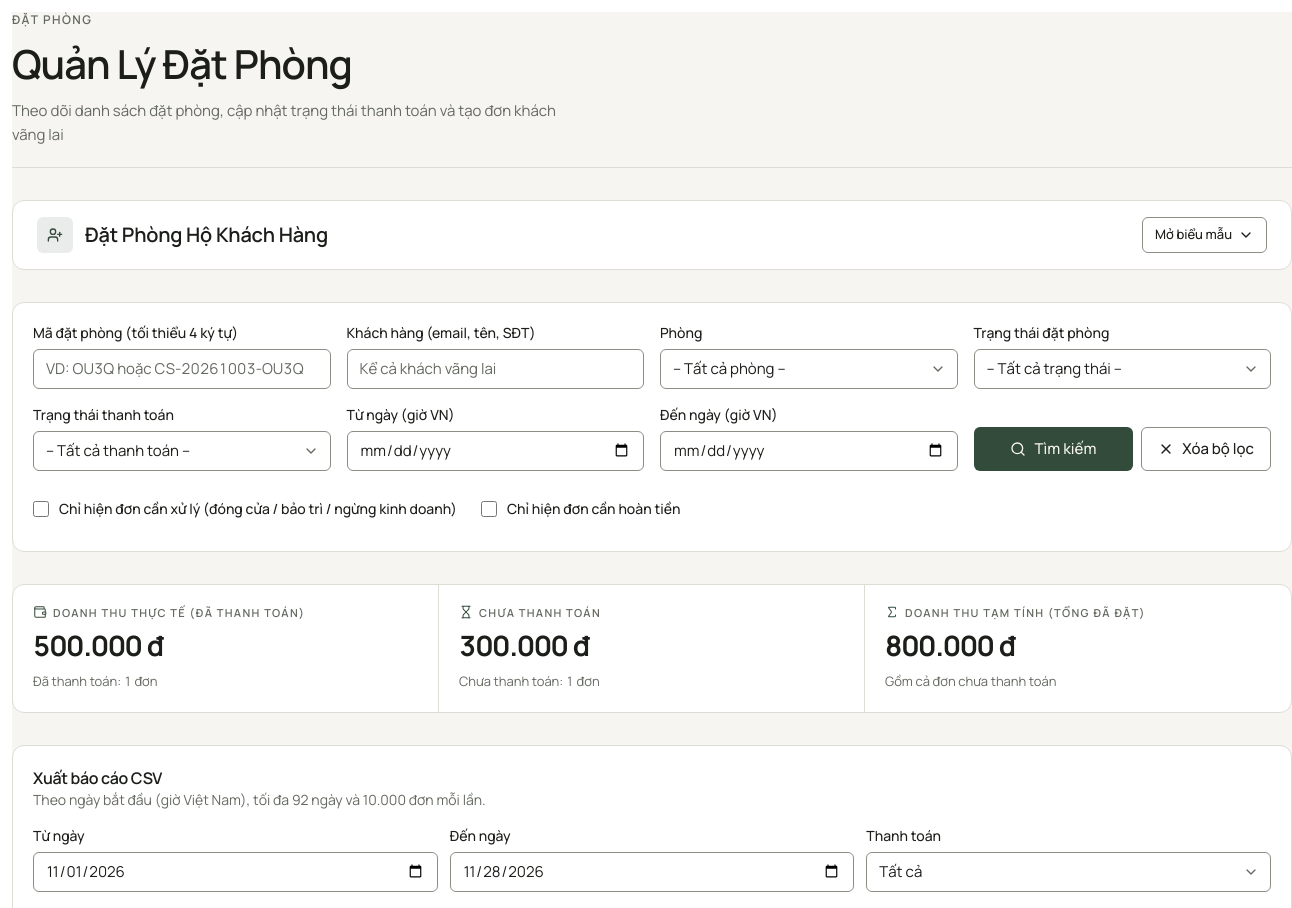
Scenario: AdminBookingsPage - Booking Management & Search › submits a trimmed customer filter that also covers walk-in guests (CWB-79)
Type "  an@example.com " into the search field with test id "filter-customer-input" at (495, 369), box [346,349,644,389]
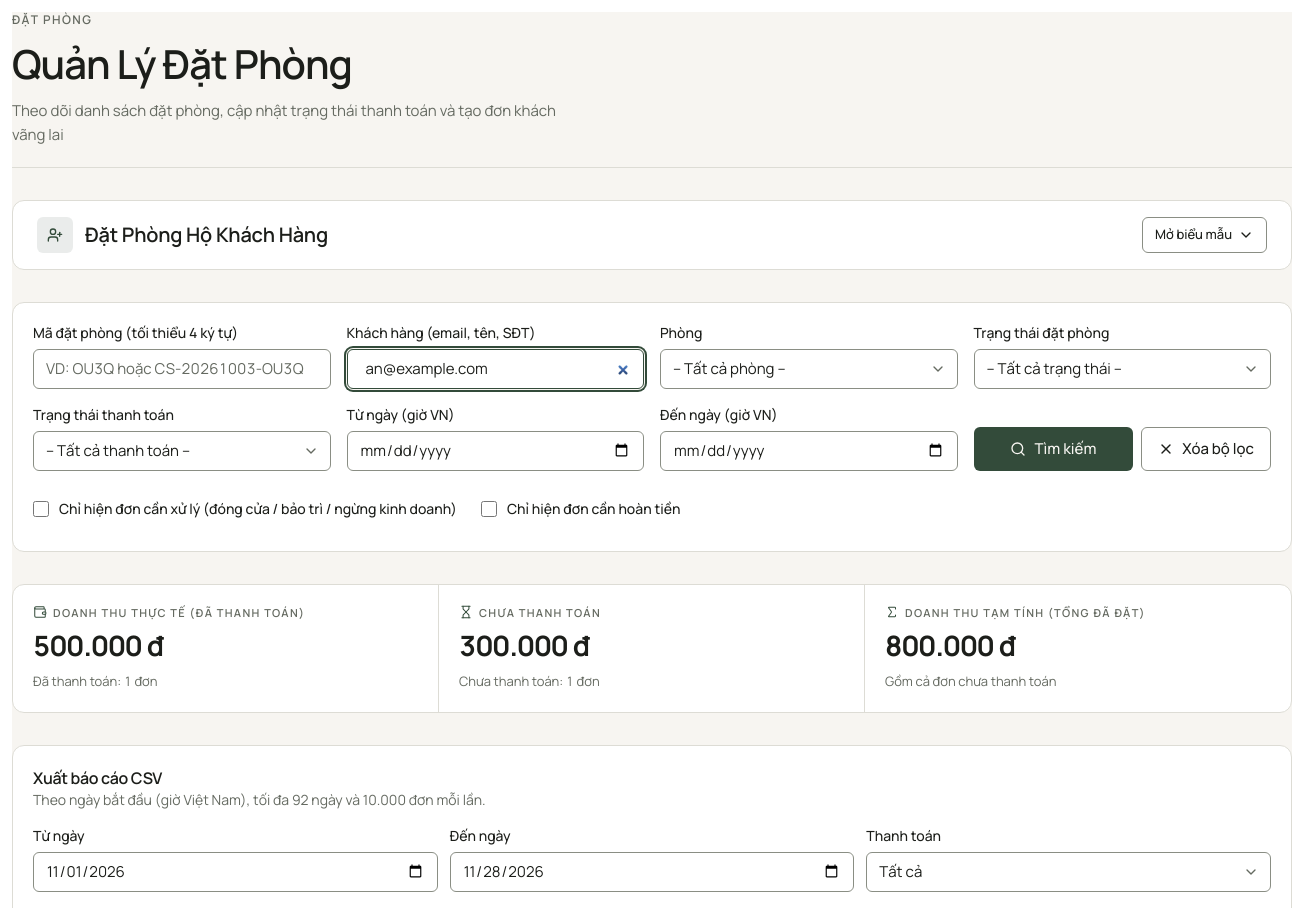
Click the button with test id "apply-filters-btn" at (1053, 449), box [974,427,1133,471]
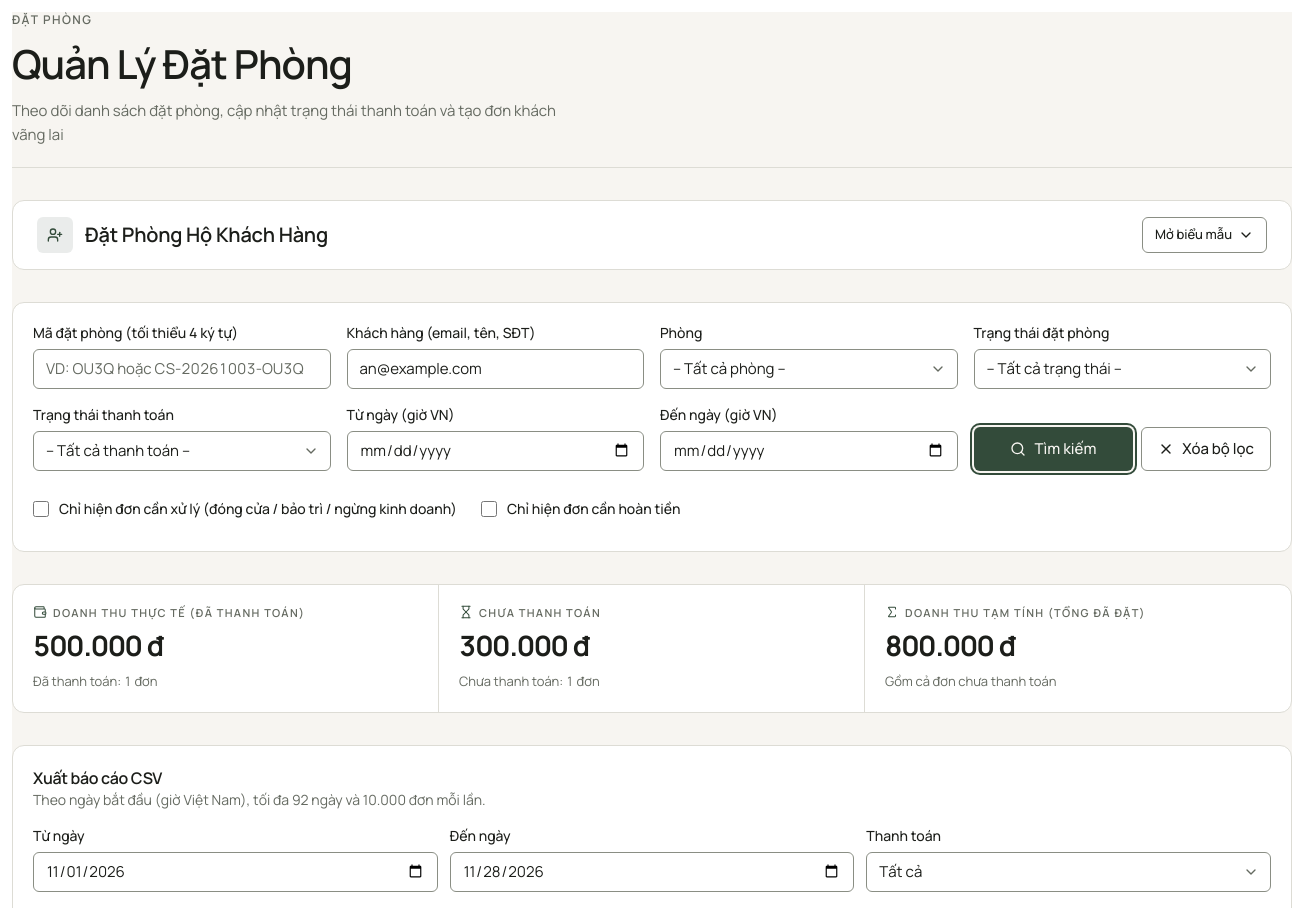
Click the button with test id "clear-filters-btn" at (1206, 449), box [1141,427,1271,471]
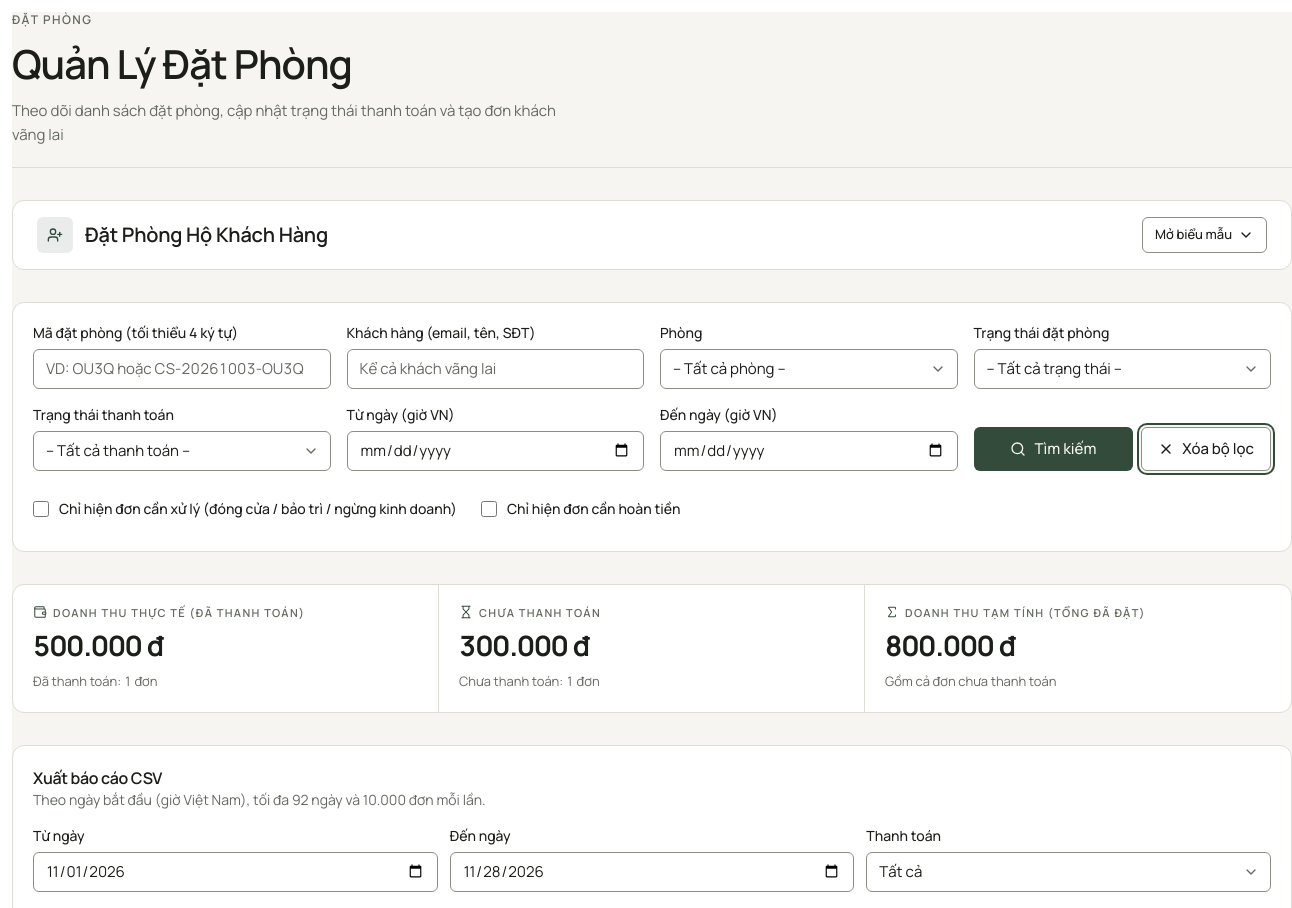
expect the search field with test id "filter-customer-input" is empty: met, box [346,349,644,389]
